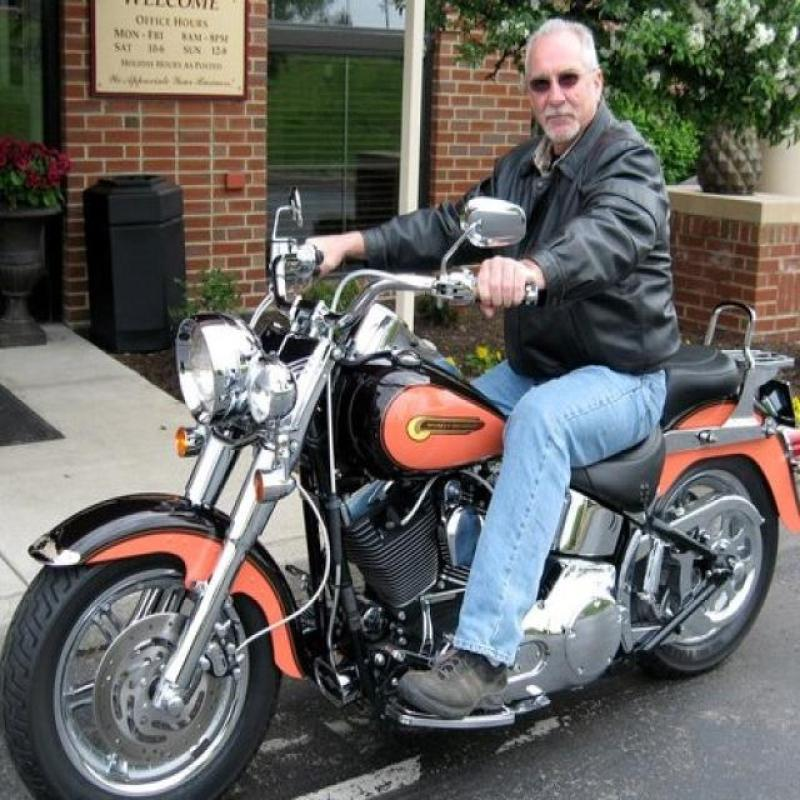nohelmet: (514, 19, 616, 148)
